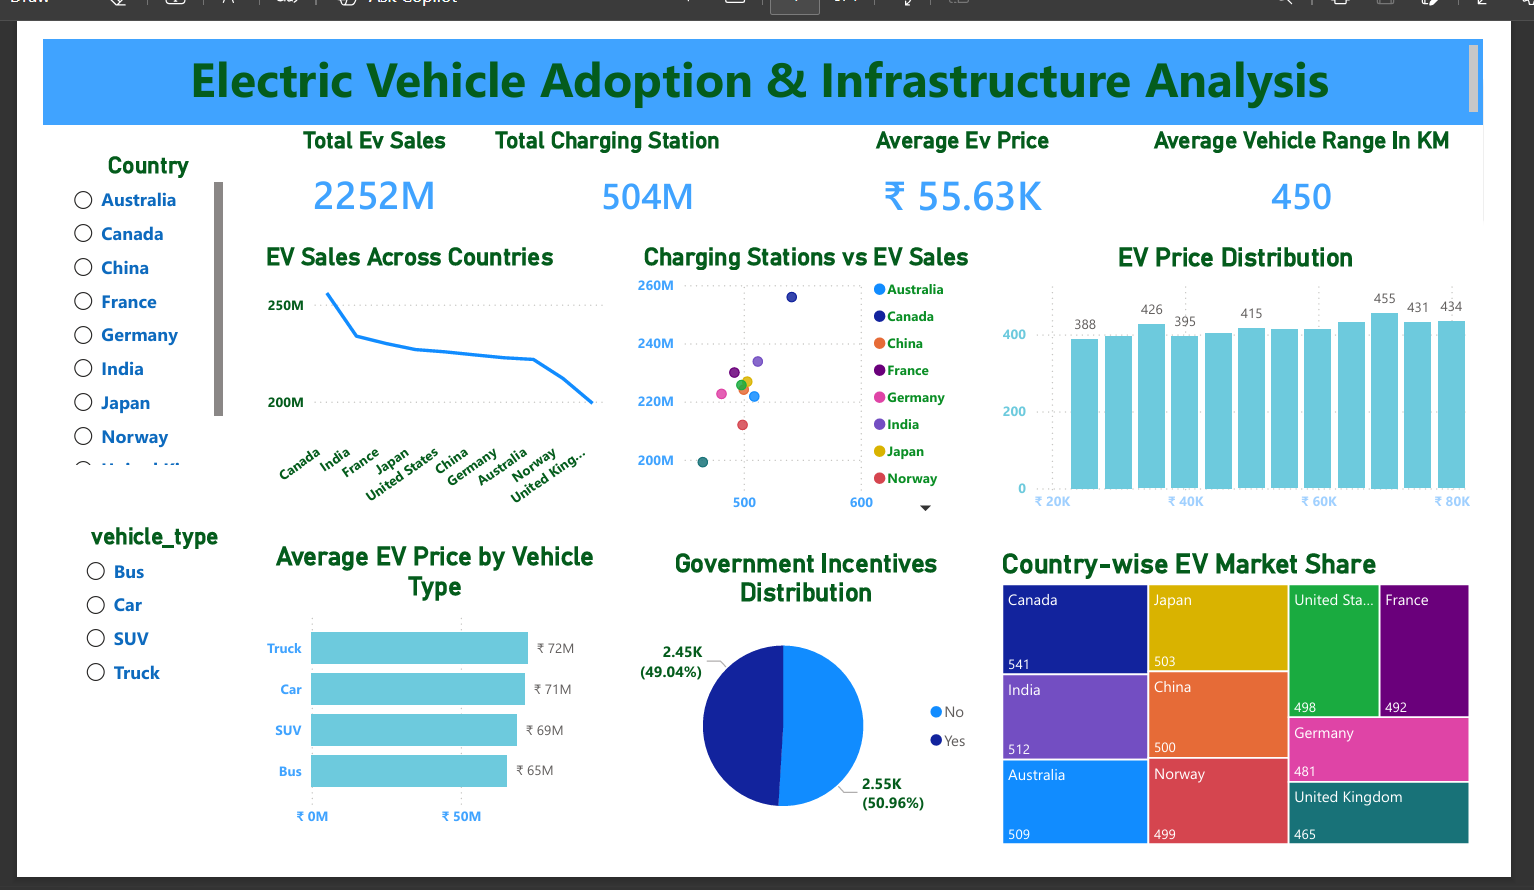

This screenshot's page, from the dashboard's own definition file:
{"tool":"powerbi","page":{"name":"Electric Vehicle Analysis Dash Board","canvas":[1280,720],"ordinal":0},"visuals":[{"type":"cardVisual","title":"Total Ev Sales","fields":{"Data":["Sum(global_ev_market_charging_infrastructure_2026 (1) (1).ev_sales_units)"]},"box":[192,77,204.2,94.2],"z":0},{"type":"cardVisual","title":"Average Ev Price","fields":{"Data":["Avg(global_ev_market_charging_infrastructure_2026 (1) (1).avg_ev_price_usd)"]},"box":[677.4,77,278.8,94.2],"z":1000},{"type":"cardVisual","title":"Total Charging Station","fields":{"Data":["Sum(global_ev_market_charging_infrastructure_2026 (1) (1).charging_stations)"]},"box":[396.2,77,281.3,94.2],"z":2000},{"type":"cardVisual","title":"Average Vehicle Range In KM","fields":{"Data":["Avg(global_ev_market_charging_infrastructure_2026 (1) (1).vehicle_range_km)"]},"box":[956.3,77,324.1,94.2],"z":3000},{"type":"textbox","box":[0,0,1280.3,75.8],"z":4000},{"type":"scatterChart","title":"Charging Stations vs EV Sales","fields":{"X":["CountNonNull(global_ev_market_charging_infrastructure_2026 (1) (1).charging_stations)"],"Y":["Sum(global_ev_market_charging_infrastructure_2026 (1) (1).Ev sales units)"],"Series":["global_ev_market_charging_infrastructure_2026 (1) (1).country"]},"box":[522.1,179.8,310.6,249.5],"z":5000},{"type":"clusteredBarChart","title":"Average EV Price by Vehicle Type","fields":{"Y":["Sum(global_ev_market_charging_infrastructure_2026 (1) (1).avg_ev_price_usd)"],"Category":["global_ev_market_charging_infrastructure_2026 (1) (1).vehicle_type"]},"box":[192,446.3,310.6,261.7],"z":6000},{"type":"clusteredColumnChart","title":"EV Price Distribution","fields":{"Category":["global_ev_market_charging_infrastructure_2026 (1) (1).avg_ev_price_usd (bins)"],"Y":["CountNonNull(global_ev_market_charging_infrastructure_2026 (1) (1).avg_ev_price_usd)"]},"box":[847.4,179.8,424.3,249.5],"z":7000},{"type":"pieChart","title":"Government Incentives Distribution","fields":{"Category":["global_ev_market_charging_infrastructure_2026 (1) (1).govt_incentives"],"Y":["CountNonNull(global_ev_market_charging_infrastructure_2026 (1) (1).govt_incentives)"]},"box":[522.1,452.4,310.6,261.7],"z":8000},{"type":"treemap","title":"Country-wise EV Market Share","fields":{"Values":["CountNonNull(global_ev_market_charging_infrastructure_2026 (1) (1).Ev sales units)"],"Group":["global_ev_market_charging_infrastructure_2026 (1) (1).country"]},"box":[847.4,452.4,424.3,267.8],"z":9000},{"type":"lineChart","title":"EV Sales Across Countries","fields":{"Category":["global_ev_market_charging_infrastructure_2026 (1) (1).country"],"Y":["Sum(global_ev_market_charging_infrastructure_2026 (1) (1).Ev sales units)"]},"box":[192,179.8,310.6,249.5],"z":10000},{"type":"listSlicer","title":"Country","fields":{"Values":["global_ev_market_charging_infrastructure_2026 (1) (1).country"]},"box":[20.8,99,144.3,283.7],"z":11000},{"type":"listSlicer","fields":{"Values":["global_ev_market_charging_infrastructure_2026 (1) (1).vehicle_type"]},"box":[31.8,429.2,133.3,249.5],"z":12000}]}

Visuals, with their boxes on the page's 1280x720 design canvas (x1, y1, x2, y2). These are canvas units, not pixel positions in the 1534x890 screenshot, which may show the page scaled, cropped or inside an application window:
"Total Ev Sales" cardVisual: x1=192, y1=77, x2=396, y2=171
"Average Ev Price" cardVisual: x1=677, y1=77, x2=956, y2=171
"Total Charging Station" cardVisual: x1=396, y1=77, x2=678, y2=171
"Average Vehicle Range In KM" cardVisual: x1=956, y1=77, x2=1280, y2=171
textbox: x1=0, y1=0, x2=1280, y2=76
"Charging Stations vs EV Sales" scatterChart: x1=522, y1=180, x2=833, y2=429
"Average EV Price by Vehicle Type" clusteredBarChart: x1=192, y1=446, x2=503, y2=708
"EV Price Distribution" clusteredColumnChart: x1=847, y1=180, x2=1272, y2=429
"Government Incentives Distribution" pieChart: x1=522, y1=452, x2=833, y2=714
"Country-wise EV Market Share" treemap: x1=847, y1=452, x2=1272, y2=720
"EV Sales Across Countries" lineChart: x1=192, y1=180, x2=503, y2=429
"Country" listSlicer: x1=21, y1=99, x2=165, y2=383
listSlicer - global_ev_market_charging_infrastructure_2026 (1) (1).vehicle_type: x1=32, y1=429, x2=165, y2=679
